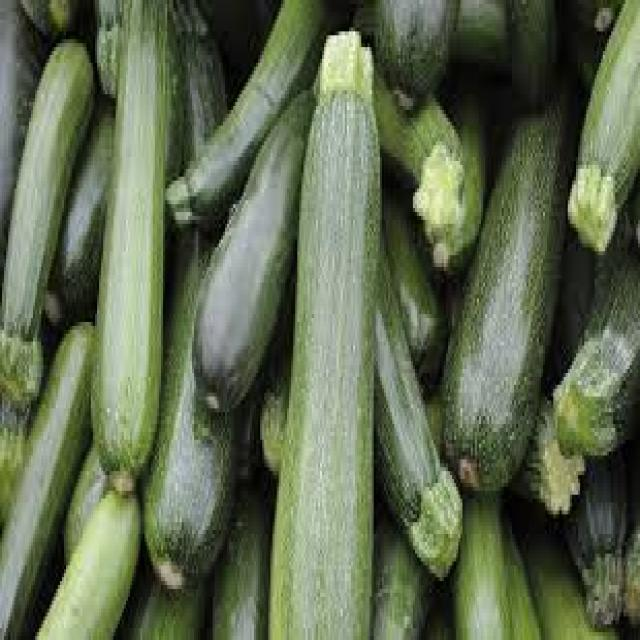organic waste: (266, 20, 378, 636), (438, 67, 580, 491), (140, 0, 236, 585), (45, 0, 184, 330), (190, 82, 312, 412), (161, 0, 330, 228), (91, 0, 167, 487), (0, 36, 93, 404), (374, 204, 460, 573), (0, 314, 93, 636), (549, 204, 638, 452), (371, 373, 444, 636), (563, 0, 638, 247), (29, 479, 140, 636), (41, 102, 116, 326), (374, 63, 460, 255), (0, 0, 52, 314), (207, 381, 270, 636), (506, 495, 619, 636), (378, 172, 444, 392), (351, 0, 508, 86), (450, 487, 539, 636), (558, 452, 624, 624), (428, 71, 486, 263), (536, 216, 594, 397), (118, 514, 204, 636), (372, 0, 462, 106), (508, 392, 582, 510), (258, 263, 291, 471), (64, 436, 105, 561), (504, 0, 555, 98), (0, 401, 27, 585), (617, 456, 638, 632), (91, 0, 124, 94), (20, 0, 80, 35), (425, 585, 448, 636)
